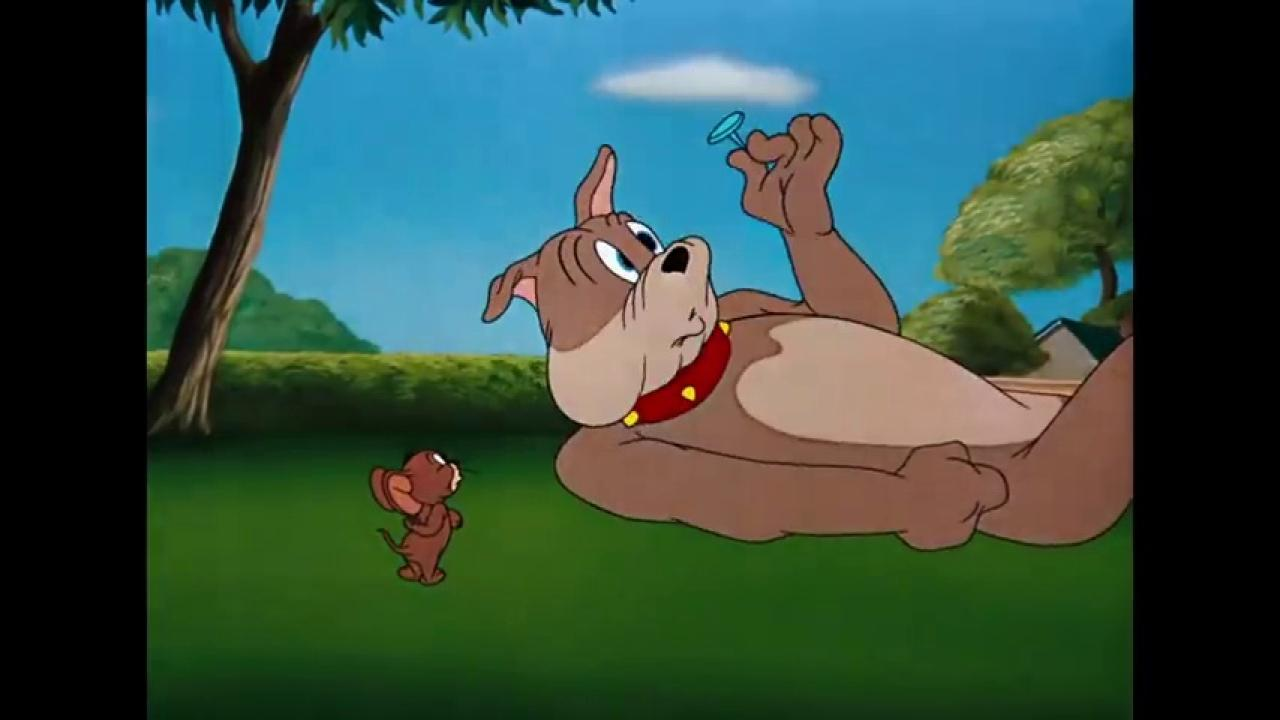Jerry: (368, 445, 480, 587)
